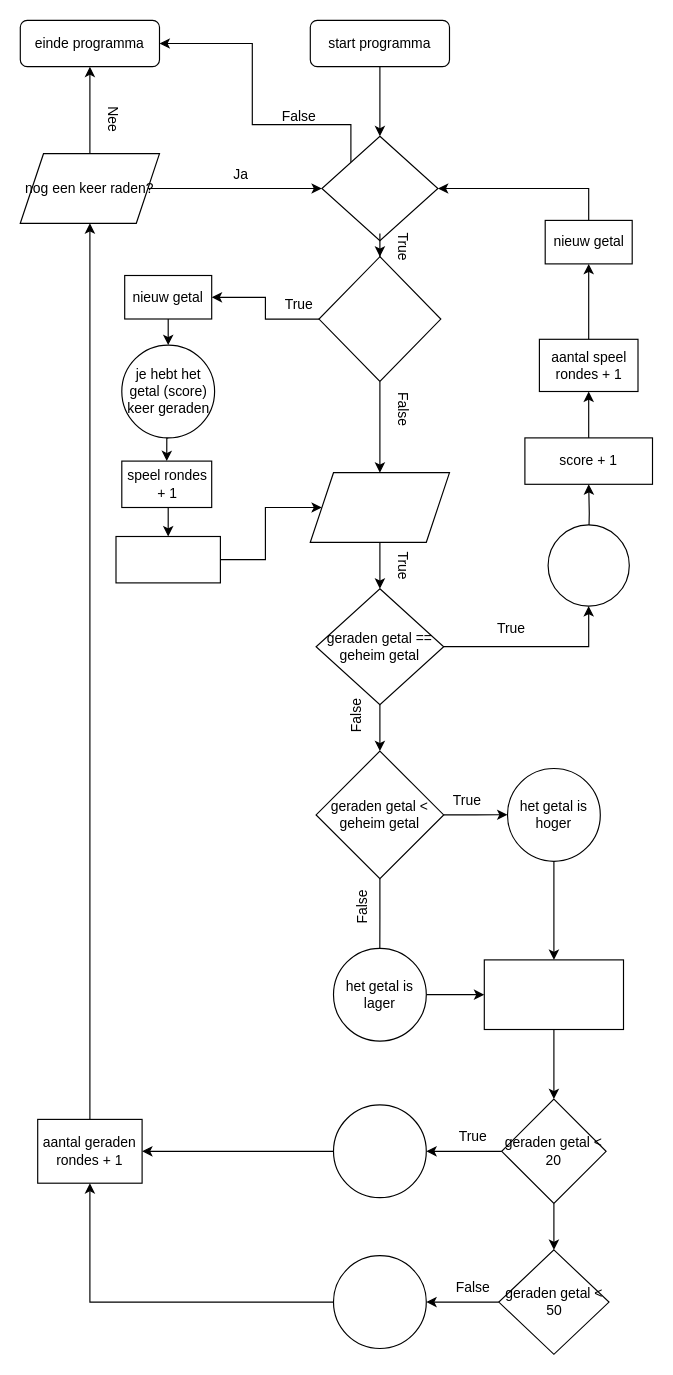
Image size: 673x1375. Some labels were removed from this diagram. Here are the shapes that lost their labels. From the top down, the box of each, then its label:
(321, 135, 438, 241): speel rondes < 20
(318, 256, 441, 381): aantal geraden rondes == 10 of getal geraden
(309, 472, 449, 542): een getal onder de 1000?
(115, 535, 220, 583): aantal geraden rondes resetten
(547, 524, 629, 606): geraden
(483, 959, 624, 1030): abs(geraden getal - geheim getal)
(332, 1104, 426, 1198): je bent heel warm
(332, 1255, 426, 1348): je bent warm
